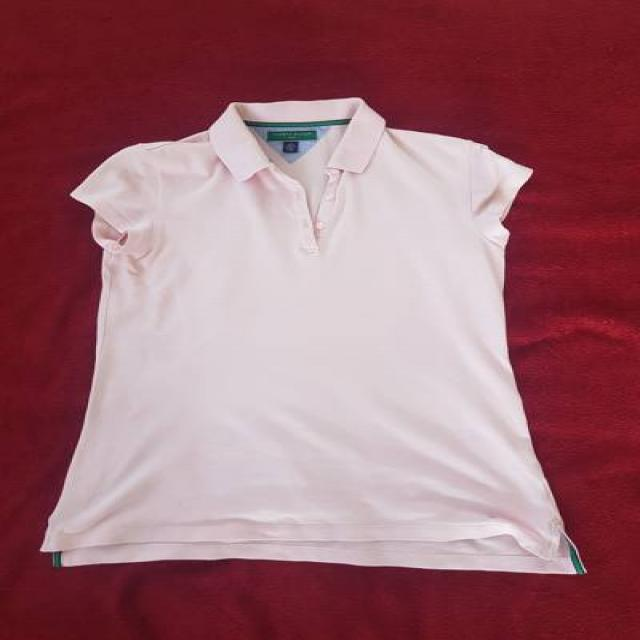Clothes -Biodegradable-: (39, 102, 587, 575)
